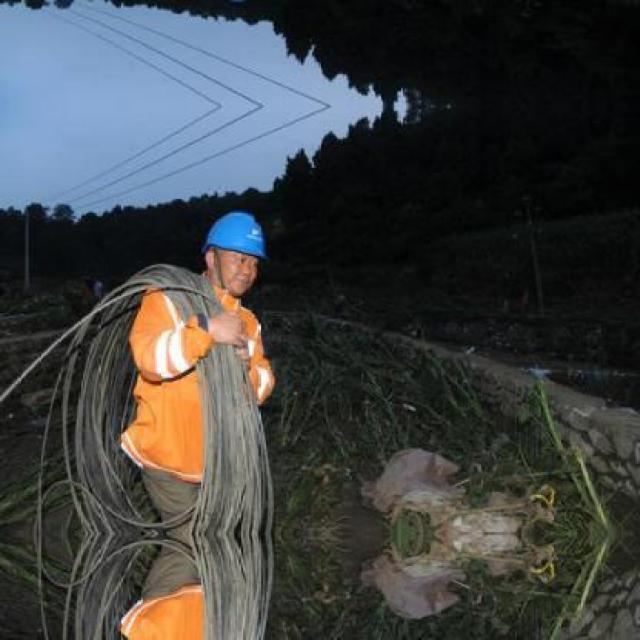Reflective-Jacket: (115, 281, 280, 484)
Safety-Helmet: (192, 204, 280, 272)
